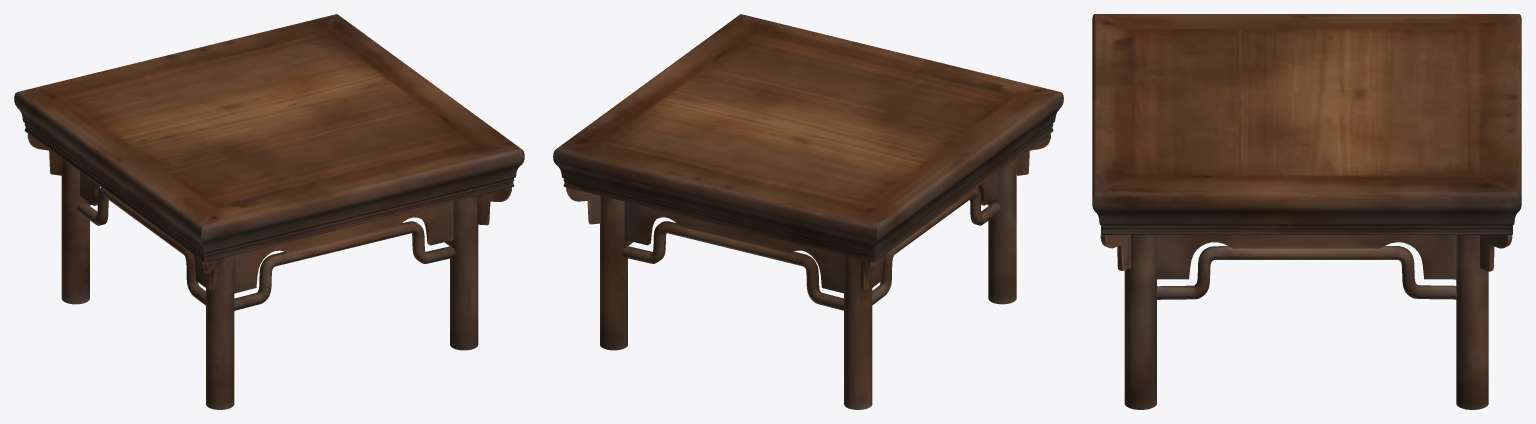
The model's file is tea-table.glb.
The picture shows the model from 3 angles, left to right: view 1: azimuth 30°, elevation 25°; view 2: azimuth 150°, elevation 25°; view 3: azimuth 270°, elevation 25°; orthographic projection. The views are drawn at different scales.
Parts seen in each view (by area): view 1: chinese_tea_table; view 2: chinese_tea_table; view 3: chinese_tea_table.
Boxes of the visible parts, bbox=[...] form: chinese_tea_table: bbox=[14, 14, 524, 409]; chinese_tea_table: bbox=[553, 14, 1063, 409]; chinese_tea_table: bbox=[1092, 14, 1521, 409].
Size of the model in its own units: 0.84 by 0.5 by 0.84.
Materials: 1 (1 with a texture image).
